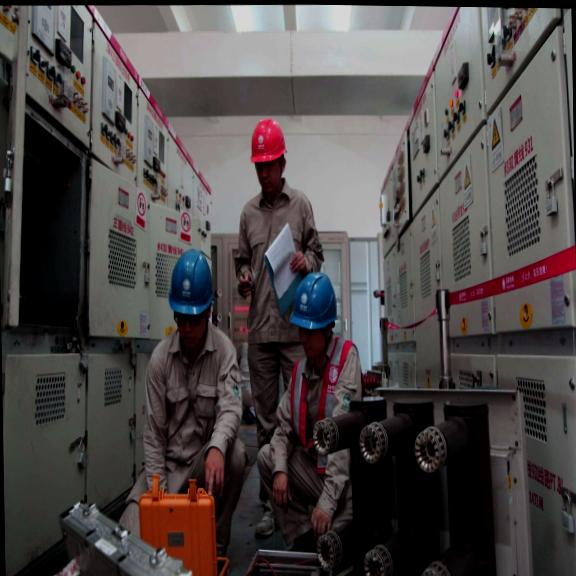no_safety_vest: (140, 333, 234, 477), (242, 190, 312, 345)
